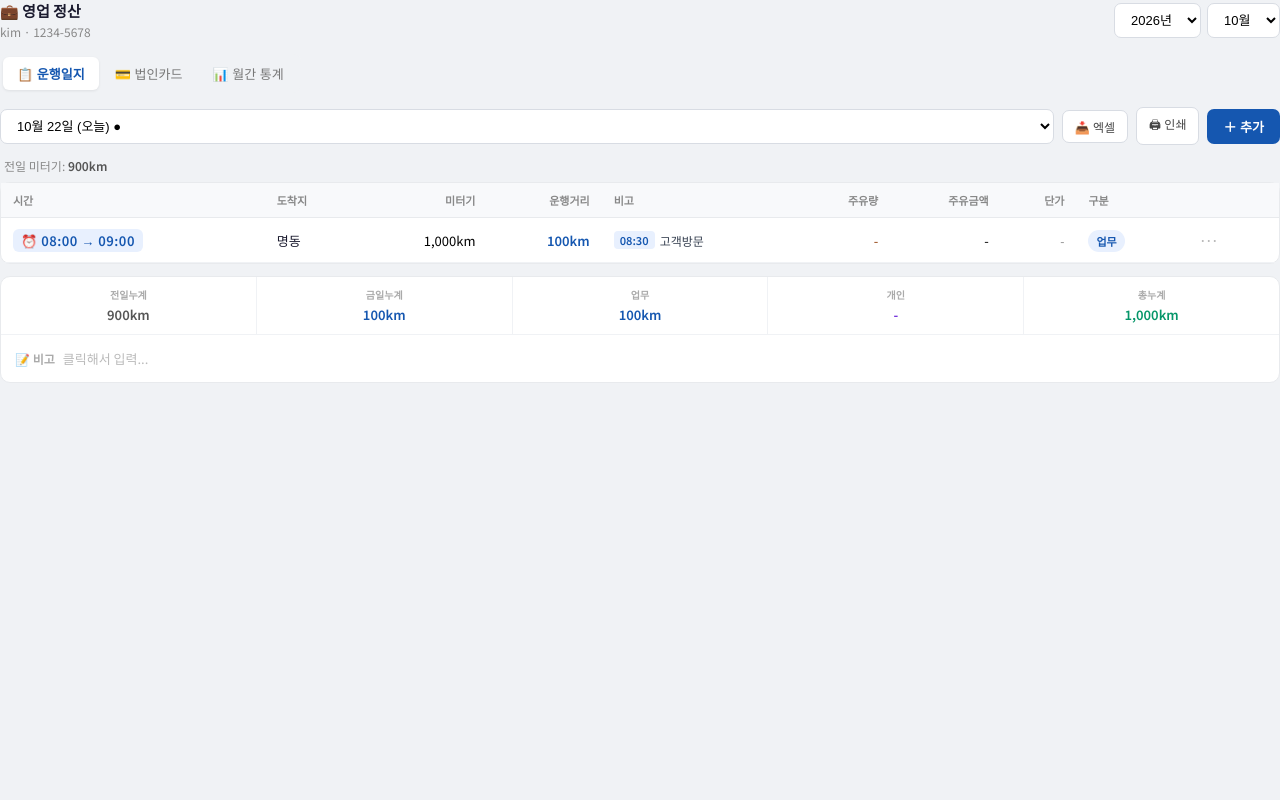
Scenario: 영업 정산 – 입력 가능 날짜 › 법인카드 – 열린 주 날짜만 고를 수 있고, 잠긴 주 지출은 ··· 메뉴 없음
Click the button "💳 법인카드" at (149, 74), box top-left (101, 57), bottom-right (196, 90)
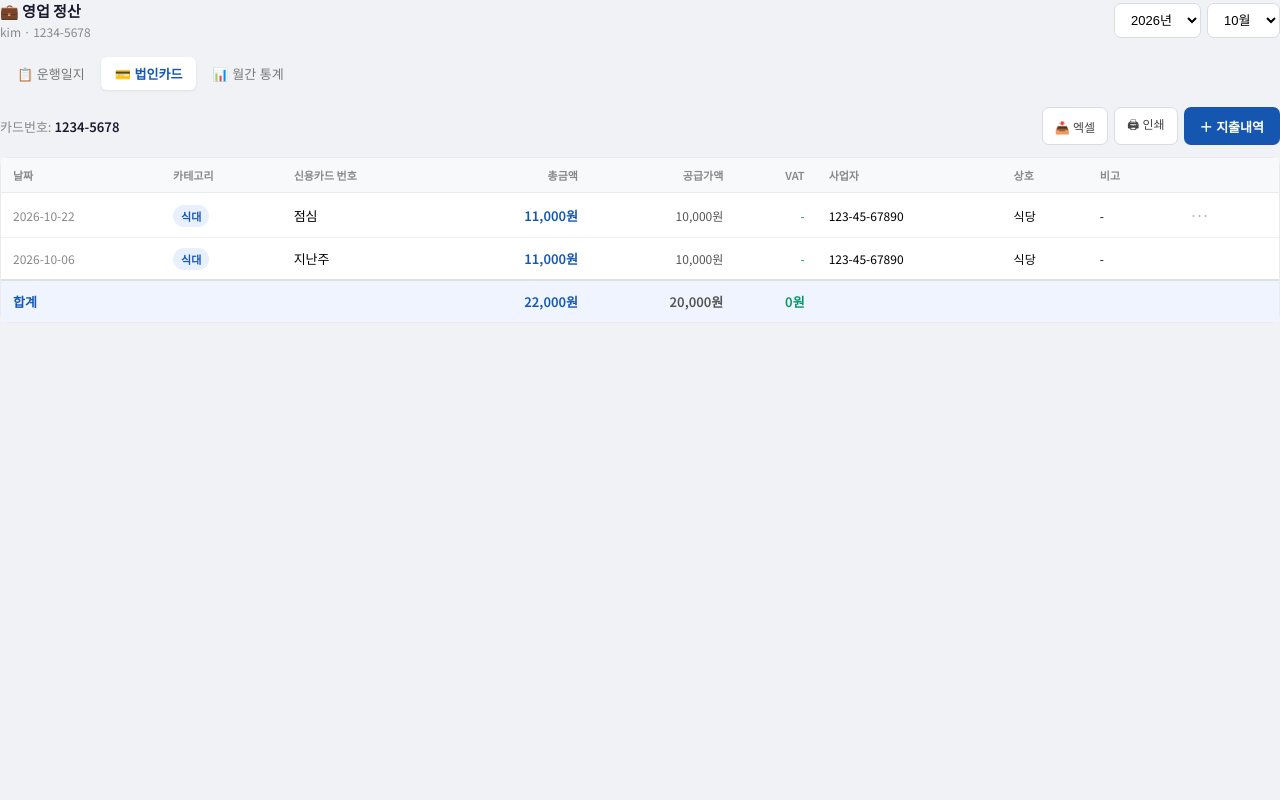
Check: the button "＋ 지출내역" is shown
Click the button "＋ 지출내역" at (1232, 126), box top-left (1184, 107), bottom-right (1279, 145)
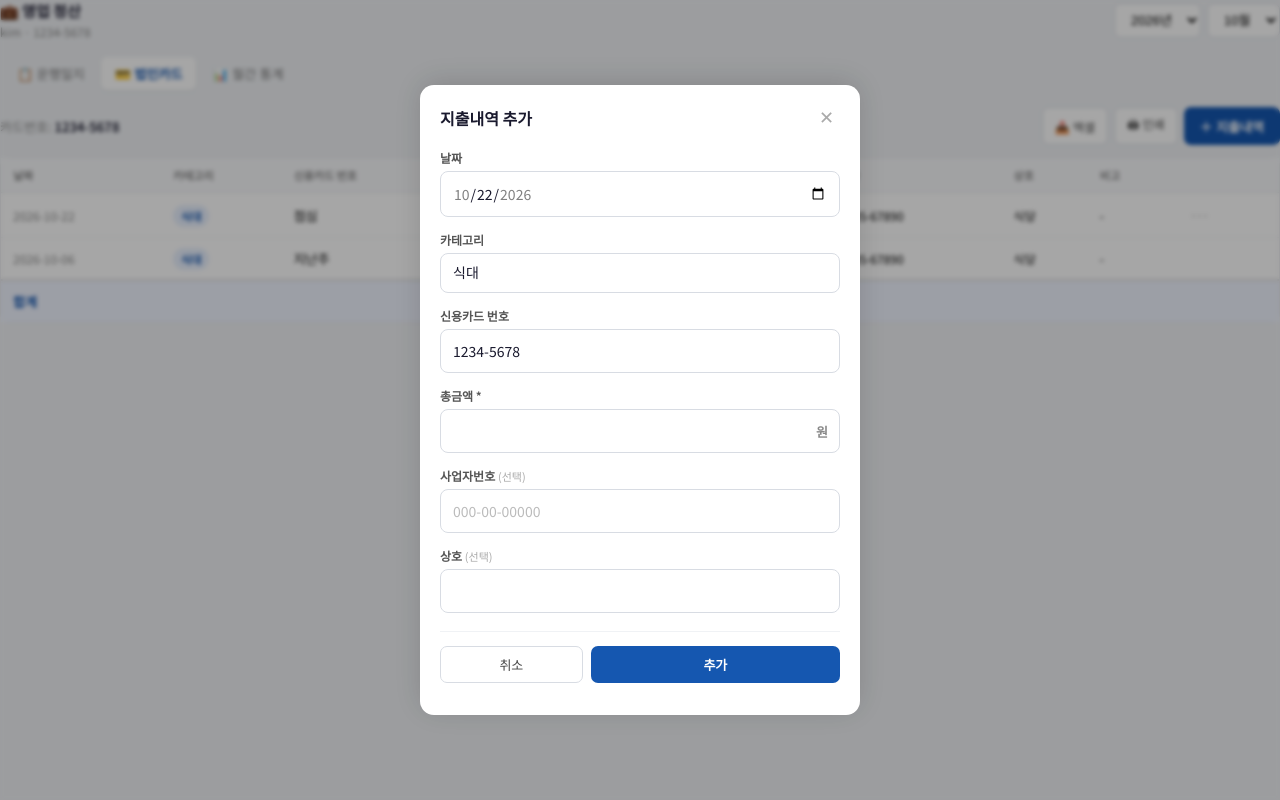
Check: the element with class "sl-modal" is shown, box top-left (420, 85), bottom-right (860, 715)
